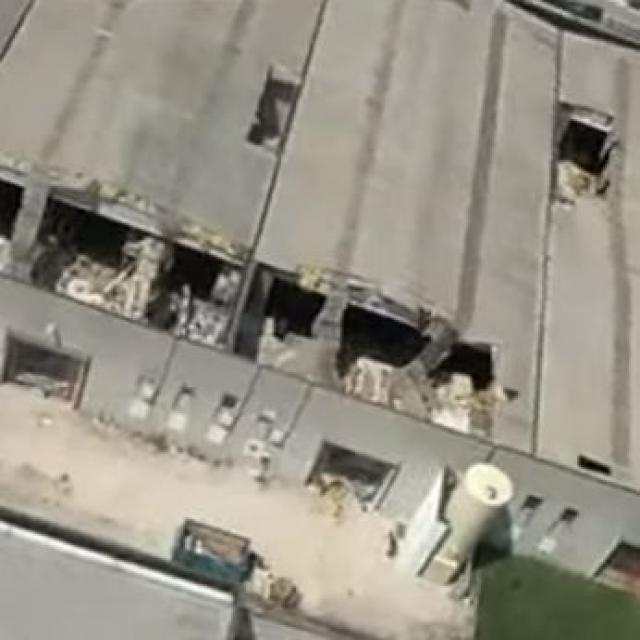collapsed_building: (0, 193, 523, 491)
